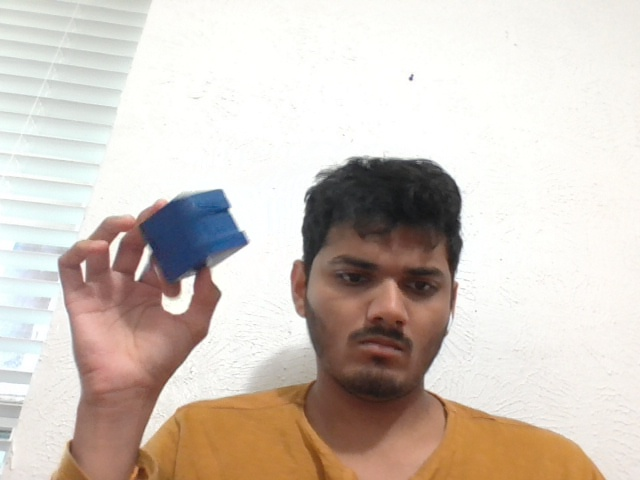BlueBlock: (141, 187, 249, 279)
